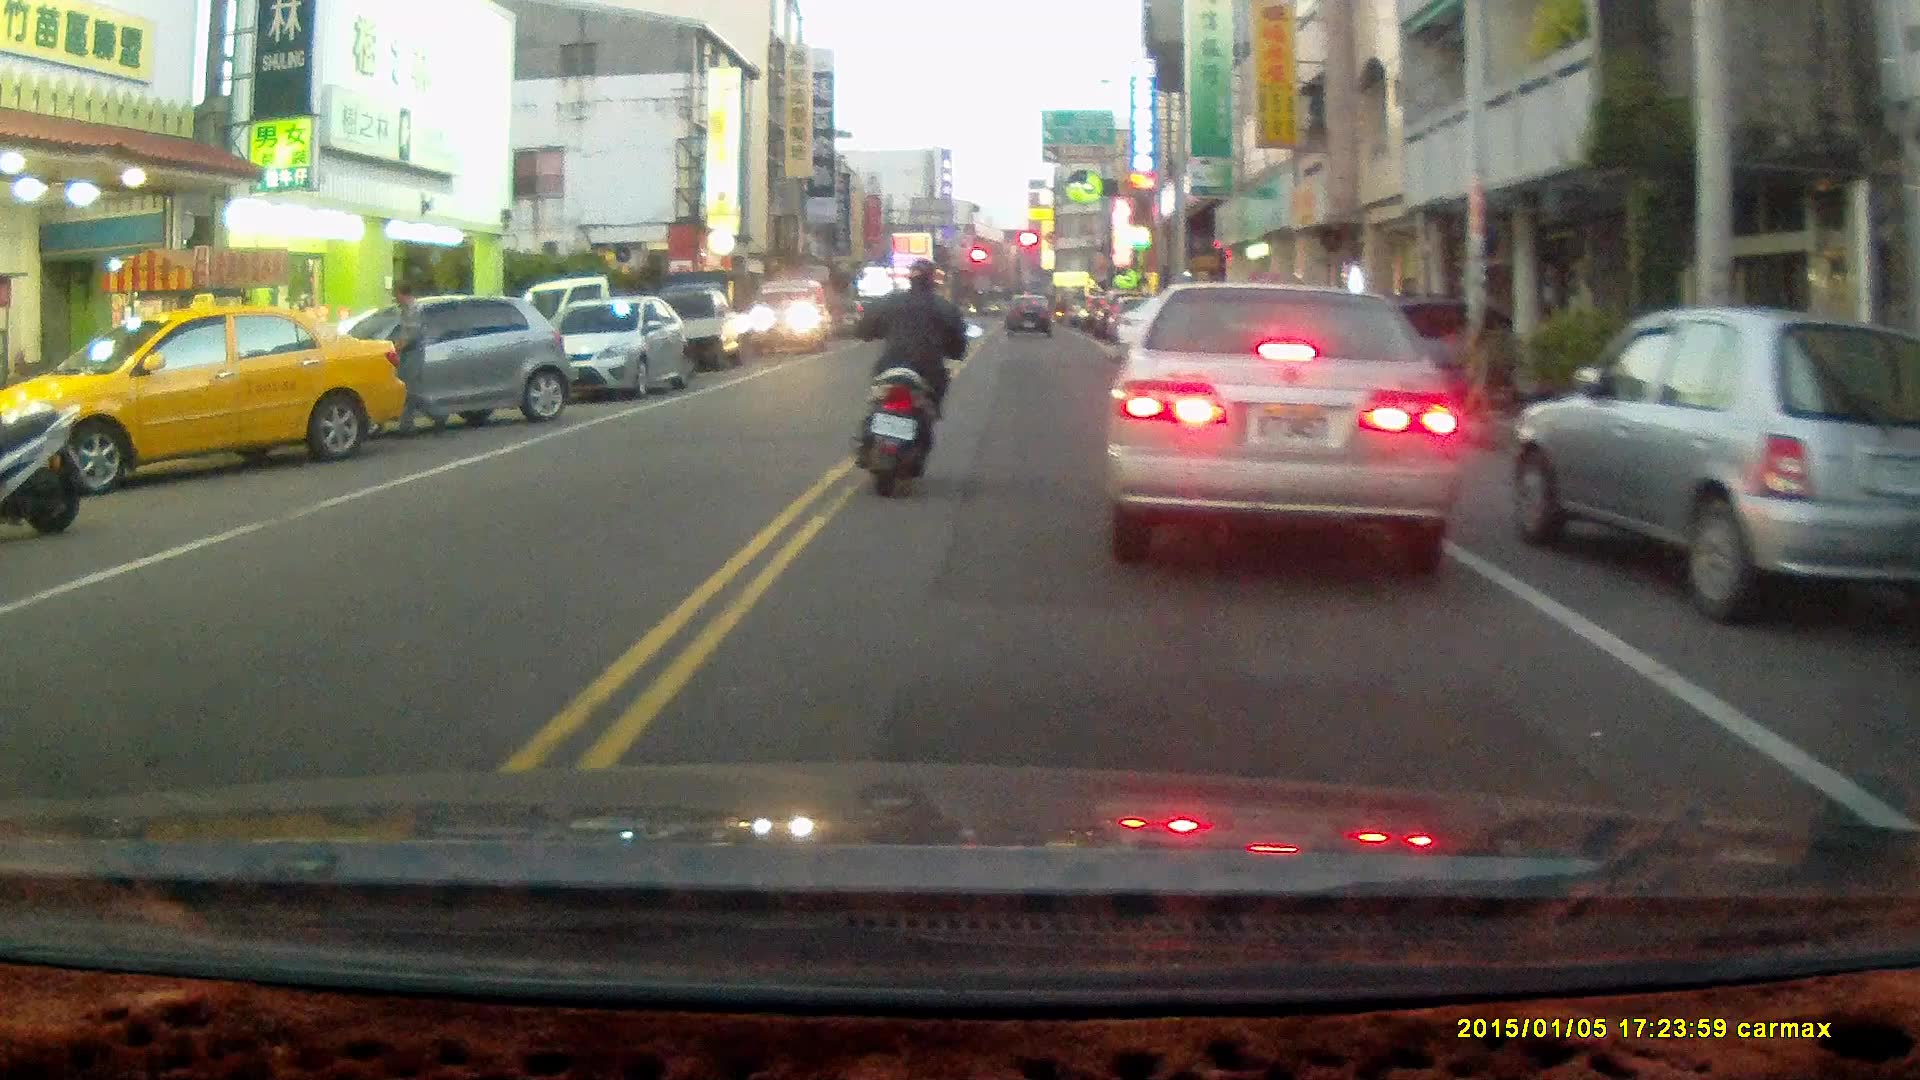pedestrian: (383, 279, 446, 444)
rider: (854, 255, 983, 497)
vehicle: (1517, 305, 1920, 624), (1099, 278, 1470, 566), (1, 303, 413, 500), (298, 291, 576, 427), (553, 296, 698, 401), (691, 284, 783, 377), (751, 279, 835, 355)
